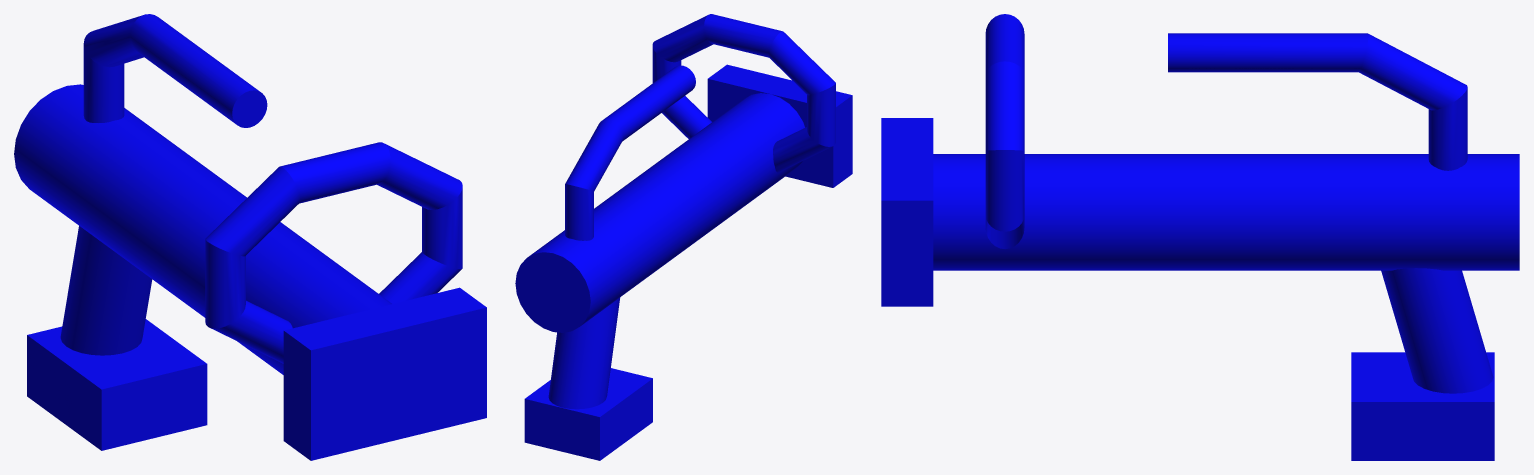
Rendered from SpreaderBody.dae.
The picture shows the model from 3 angles, left to right: view 1: azimuth 30°, elevation 25°; view 2: azimuth 150°, elevation 25°; view 3: azimuth 270°, elevation 25°; orthographic projection. The views are drawn at different scales.
Visible parts, largest first — view 1: group_0 (×5); view 2: group_0 (×5); view 3: group_0 (×5).
Boxes of the visible parts, x1,y1,x2,y2 form: group_0 (×5): [14, 14, 486, 460]; group_0 (×5): [515, 14, 852, 460]; group_0 (×5): [881, 14, 1519, 460].
Bounding box in the file's own units: 8.46 × 19.29 × 13.37.
